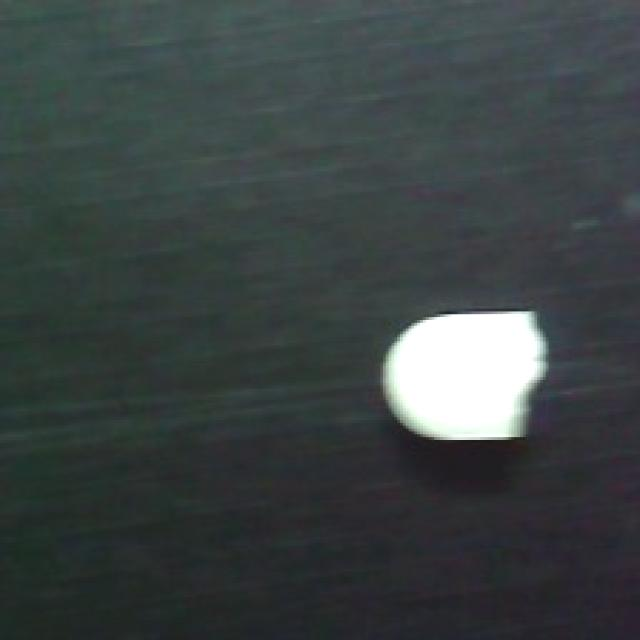defected: (380, 309, 551, 451)
